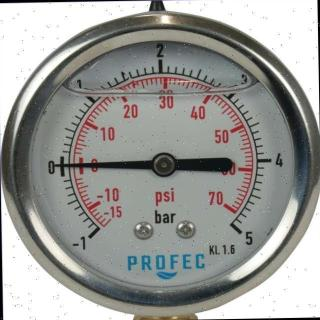gauge: (0, 1, 318, 319), (74, 221, 104, 251), (227, 218, 253, 246), (151, 151, 177, 177), (48, 158, 62, 171)
